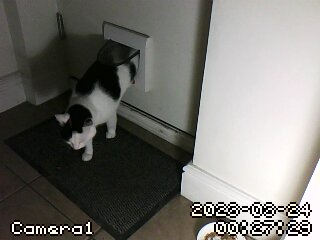bad: (55, 46, 136, 162)
